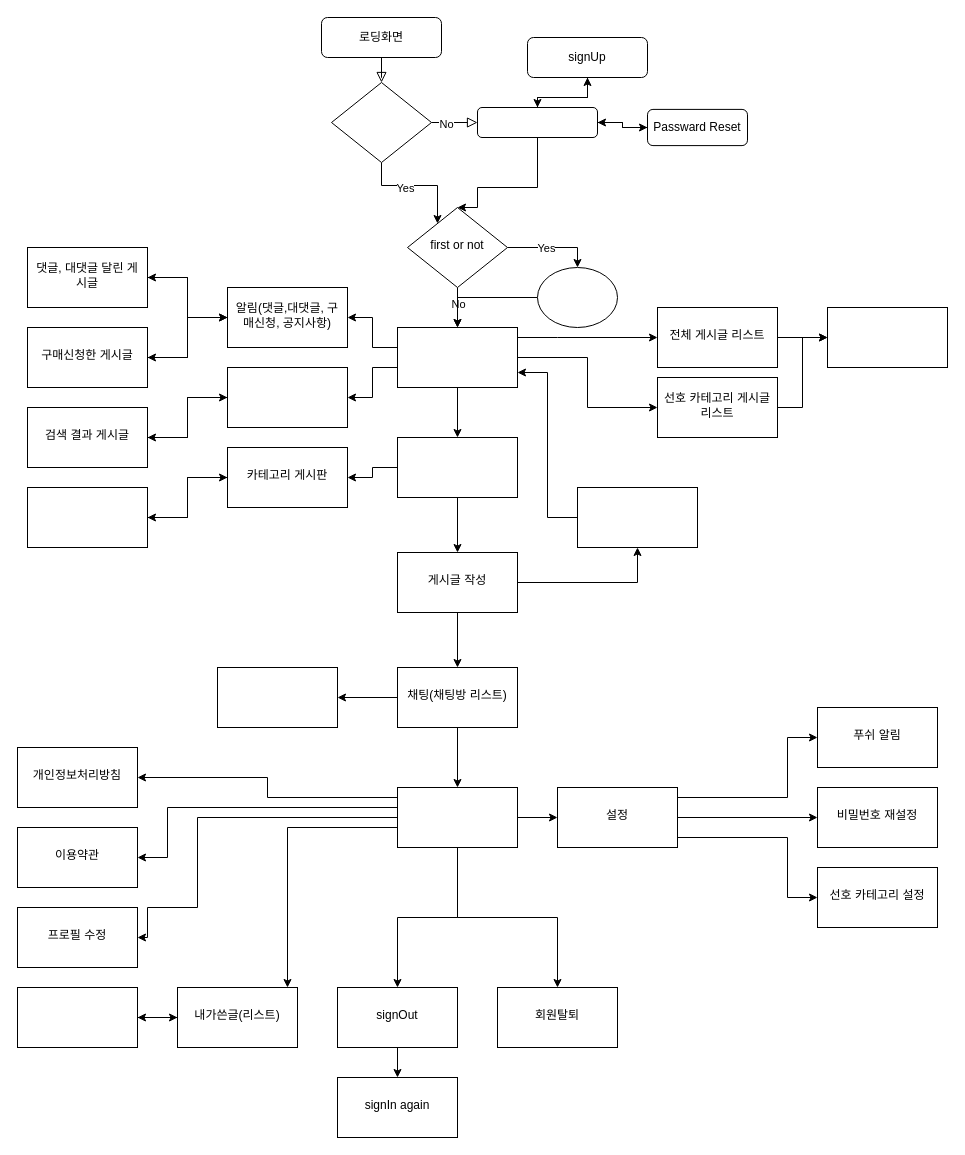
Some shapes in this 965 by 1155 pixel diagram are drawn without their labels. Here are the shapes that lost their labels. From the top down, the box of each, then its label:
(330, 82, 432, 162): signedIn or not
(476, 106, 598, 138): signIn
(536, 266, 618, 328): 카테고리 선택
(396, 326, 518, 388): 메인화면
(826, 306, 948, 368): 게시글
(226, 366, 348, 428): 검색창/검색결과
(396, 436, 518, 498): 카테고리
(26, 486, 148, 548): 카테고리 게시글
(576, 486, 698, 548): 작성한 게시글
(216, 666, 338, 728): 채팅방
(396, 786, 518, 848): 마이페이지(프로필)
(16, 986, 138, 1048): 내가 쓴 게시글
